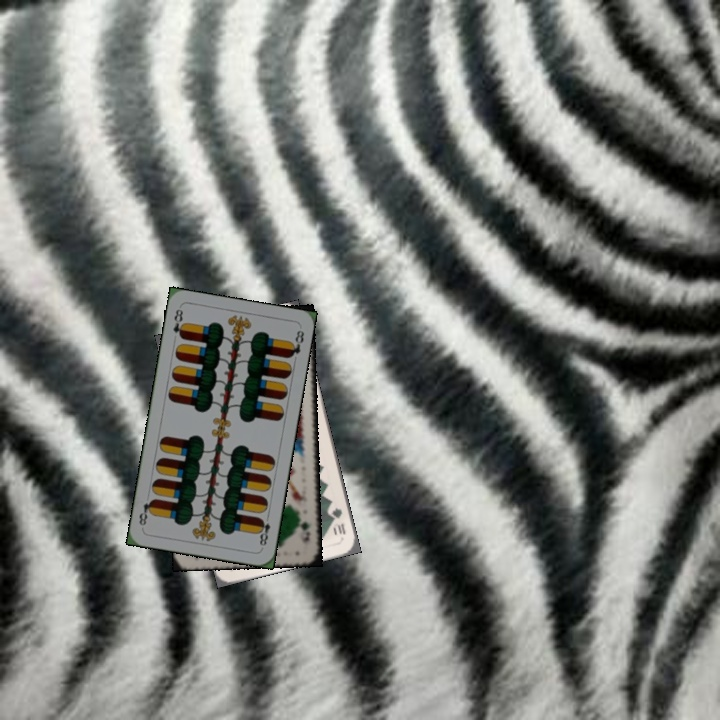E8: (254, 510, 273, 549), (169, 305, 187, 341)
G10: (327, 504, 348, 538)
GK: (296, 509, 312, 545)
